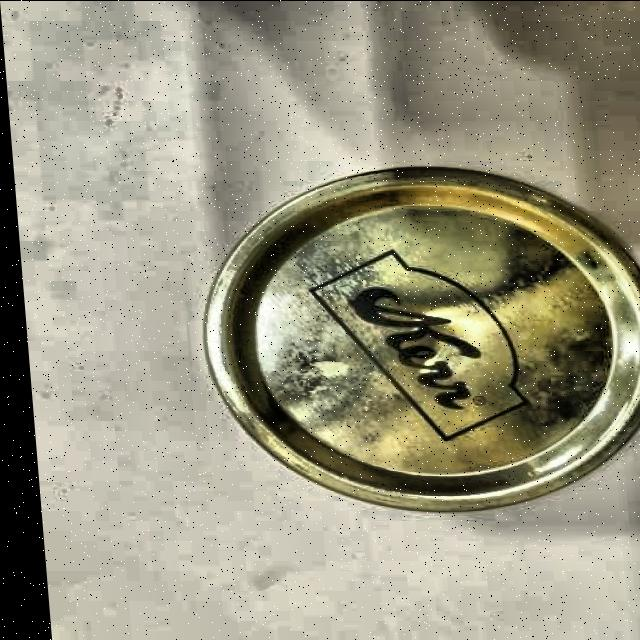metal: (184, 165, 640, 514)
